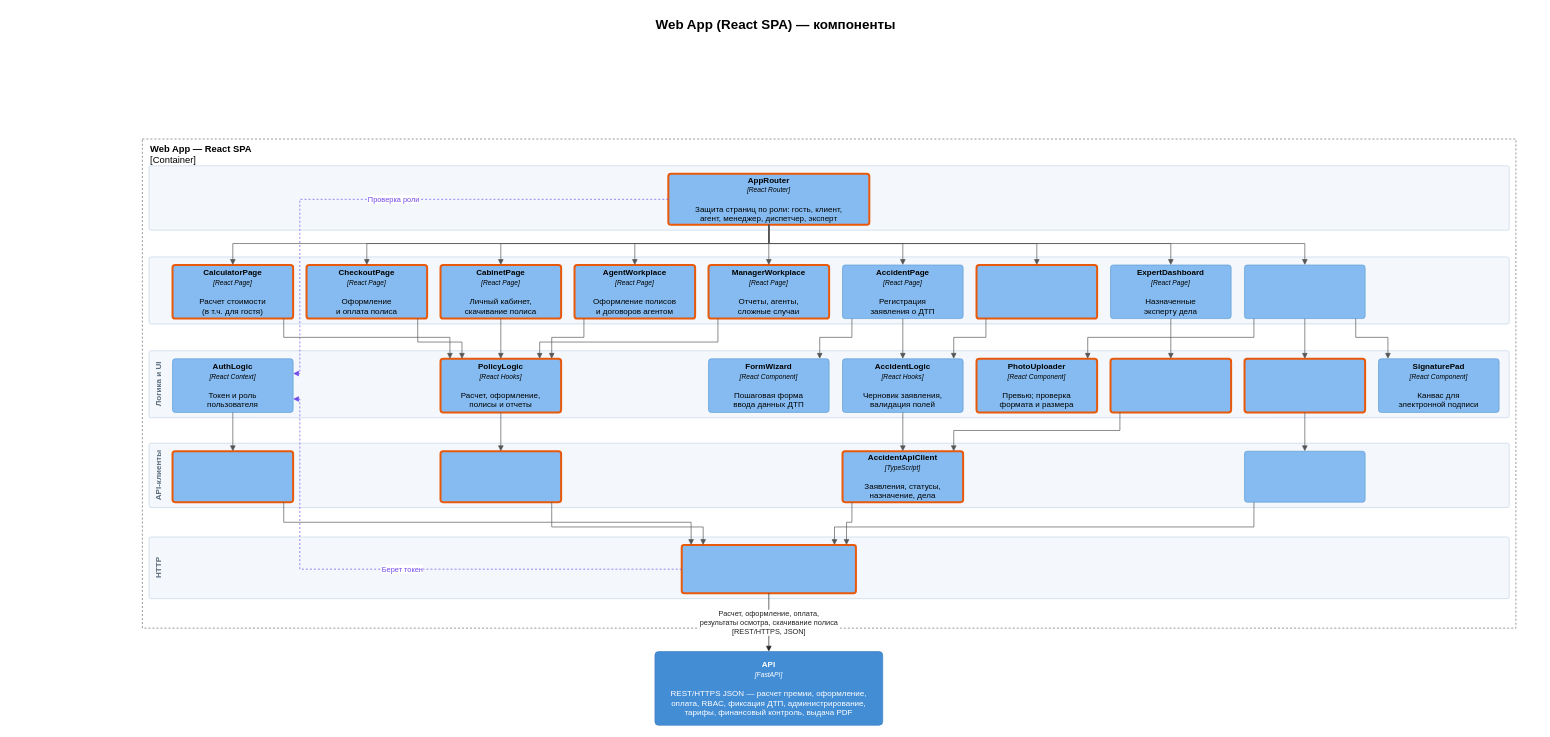
The diagram is 1550 pixels wide and 737 high, and some of its shapes have lost their labels. Each missing label, with the box of its shape:
AuthApiClient [TypeScript] Вход по коду, обновление токена: (171, 450, 294, 503)
DispatcherPage [React Page] Заявление по звонку, назначение эксперта: (975, 264, 1098, 319)
ExpertCasesLogic [React Hooks] Список дел, фильтры, статусы: (1109, 357, 1232, 413)
HttpClient [axios] Токен в каждом запросе, 401/403, повторы: (680, 544, 857, 594)
InspectionApiClient [TypeScript] Фото, результаты, подпись: (1244, 451, 1365, 502)
InspectionLogic [React Hooks] Сбор результатов; выплату не считает: (1243, 357, 1366, 413)
InspectionPage [React Page] Осмотр, фото, подписание акта: (1244, 264, 1365, 319)
PolicyApiClient [TypeScript] Расчет, оформление, оплата, PDF полиса: (439, 450, 562, 503)
Маршруты: (148, 165, 1509, 230)
Страницы: (148, 256, 1509, 324)
